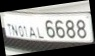character: (44, 19, 55, 38), (54, 19, 65, 38), (75, 19, 86, 38), (65, 19, 75, 38), (28, 26, 36, 37), (36, 27, 44, 38), (11, 24, 18, 35), (17, 25, 24, 36), (6, 23, 12, 35), (22, 26, 28, 36)
